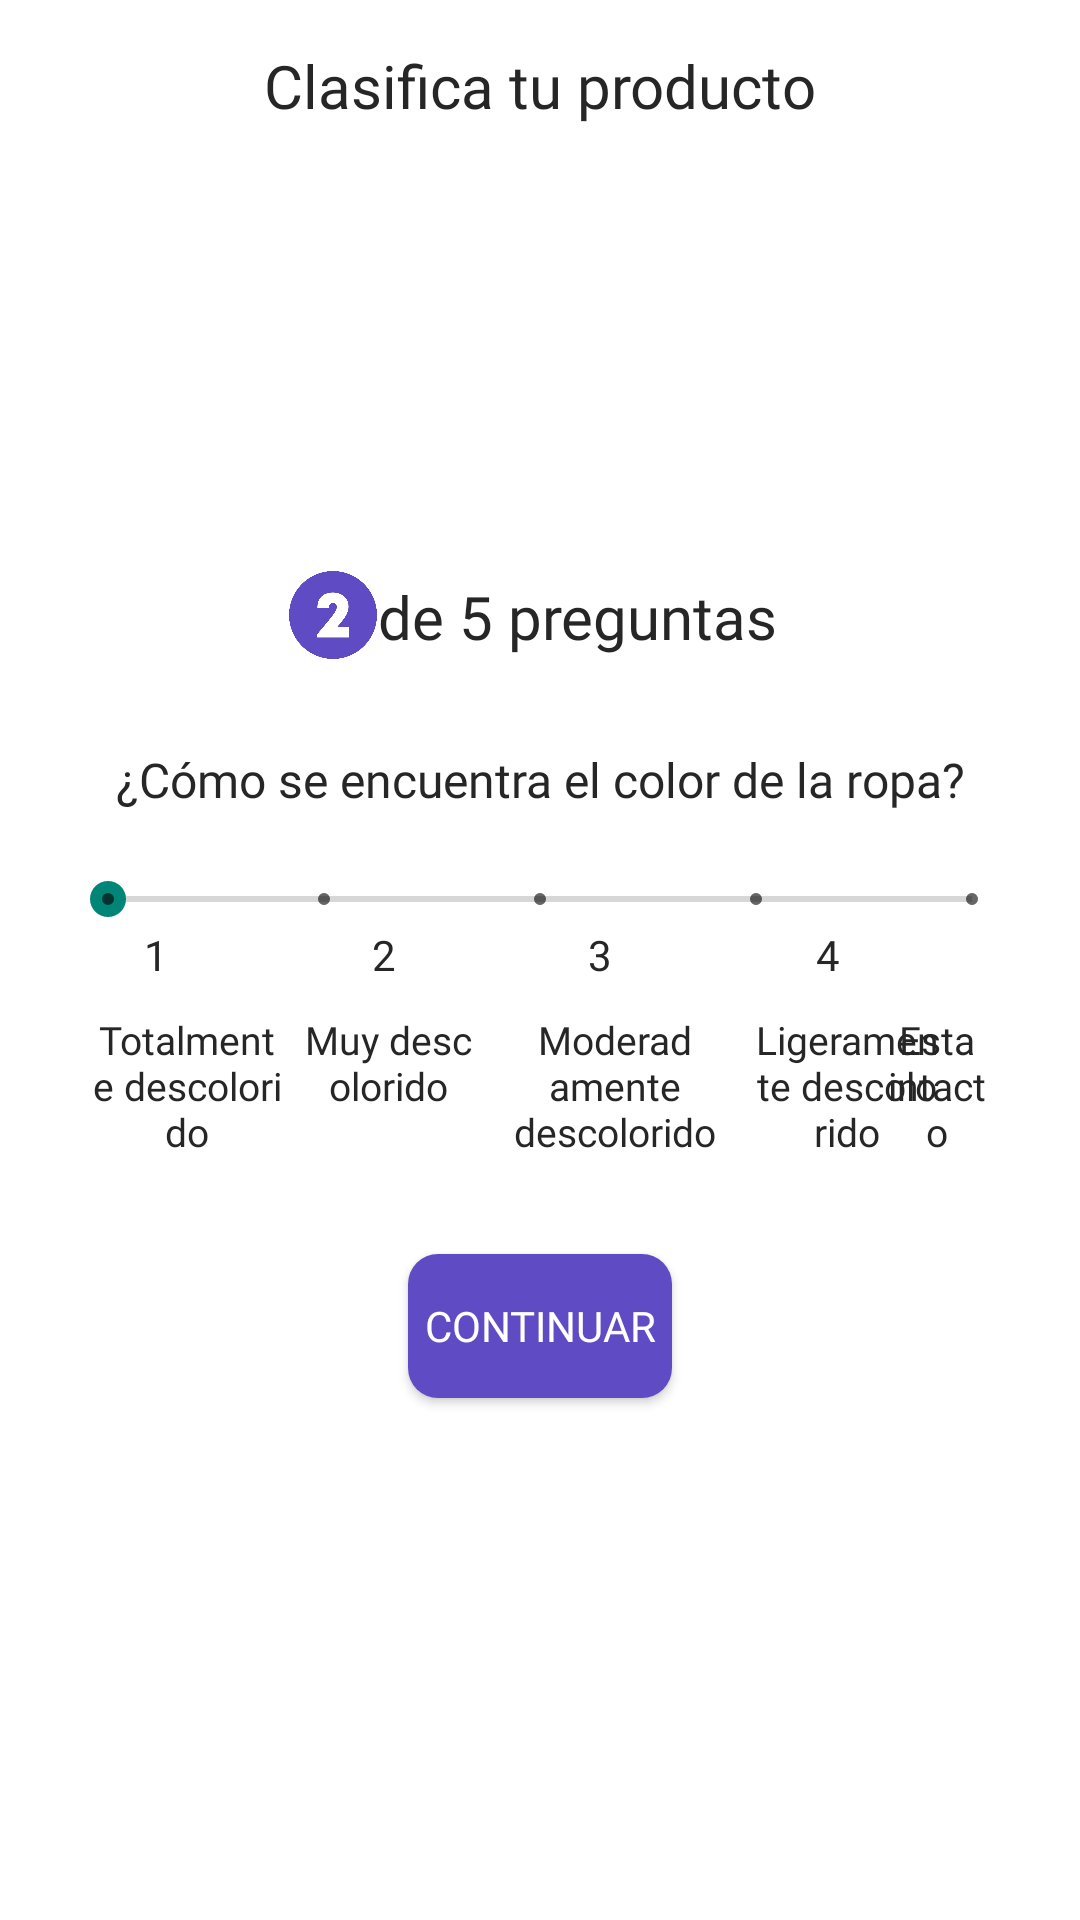

Icons on this 1080*1920 Android screen, each with its box as (x1, y1, x2, y2):
numero: (289, 571, 377, 659)
